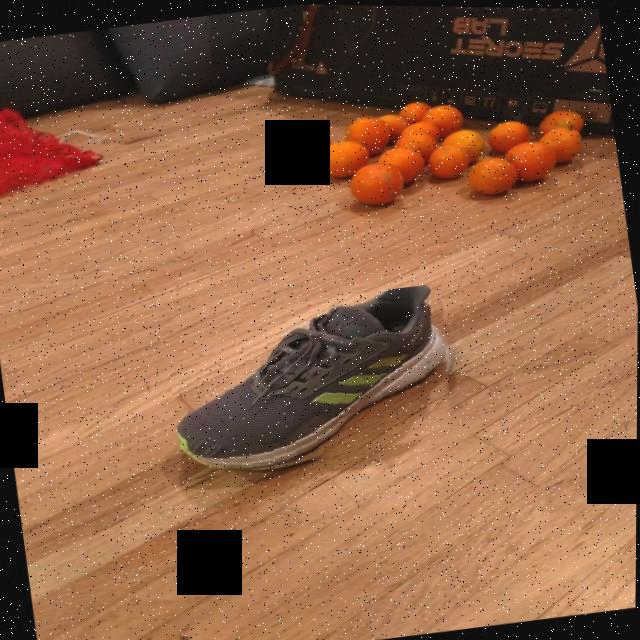shoe: (163, 278, 466, 484)
